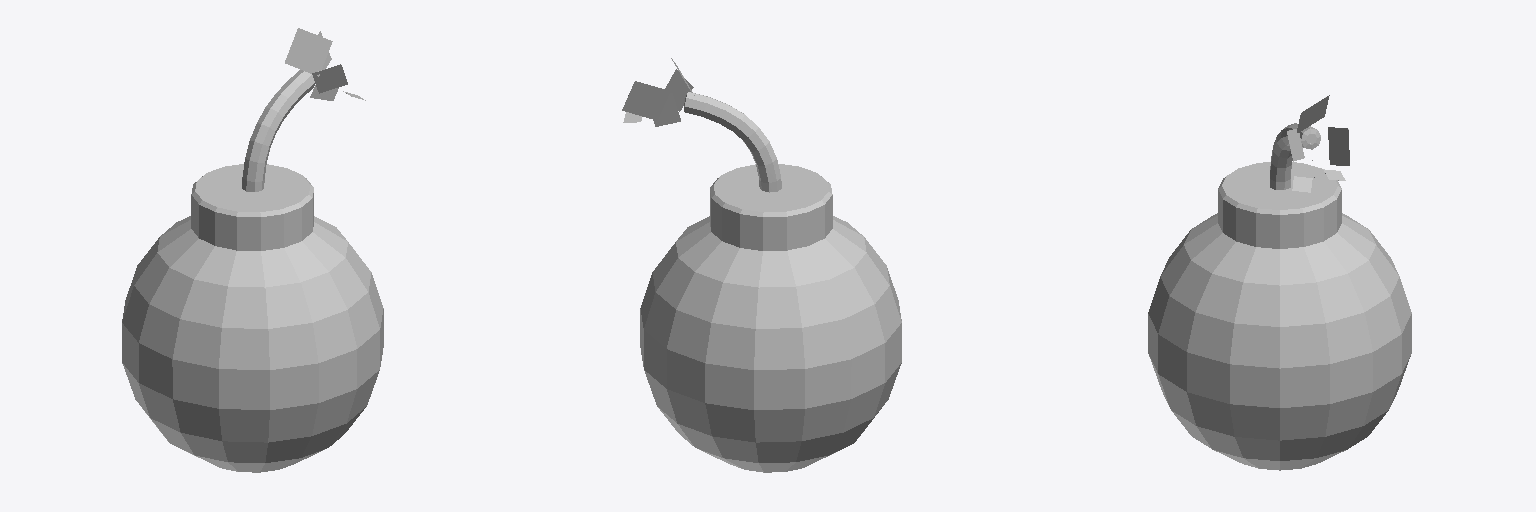
The model's file is bomb_000004.obj.
3 views of the same model, side by side, from view 1: azimuth 30°, elevation 25°; view 2: azimuth 150°, elevation 25°; view 3: azimuth 270°, elevation 25° (orthographic).
Parts seen in each view (by area): view 1: Sphere, NurbsPath, Plane_5.001_Mesh.001; view 2: Sphere, NurbsPath, Plane_5.001_Mesh.001; view 3: Sphere, Plane_5.001_Mesh.001, NurbsPath.
Part boxes in pixels (x1,y1,x2,y2): Sphere: (122, 164, 383, 472); NurbsPath: (242, 70, 315, 191); Plane_5.001_Mesh.001: (285, 28, 365, 100); Sphere: (640, 164, 901, 472); NurbsPath: (684, 92, 781, 192); Plane_5.001_Mesh.001: (622, 58, 694, 126); Sphere: (1148, 162, 1411, 470); Plane_5.001_Mesh.001: (1287, 95, 1349, 192); NurbsPath: (1270, 123, 1320, 189).
Size of the model in its own units: 0.8154 by 1.29 by 0.7933.